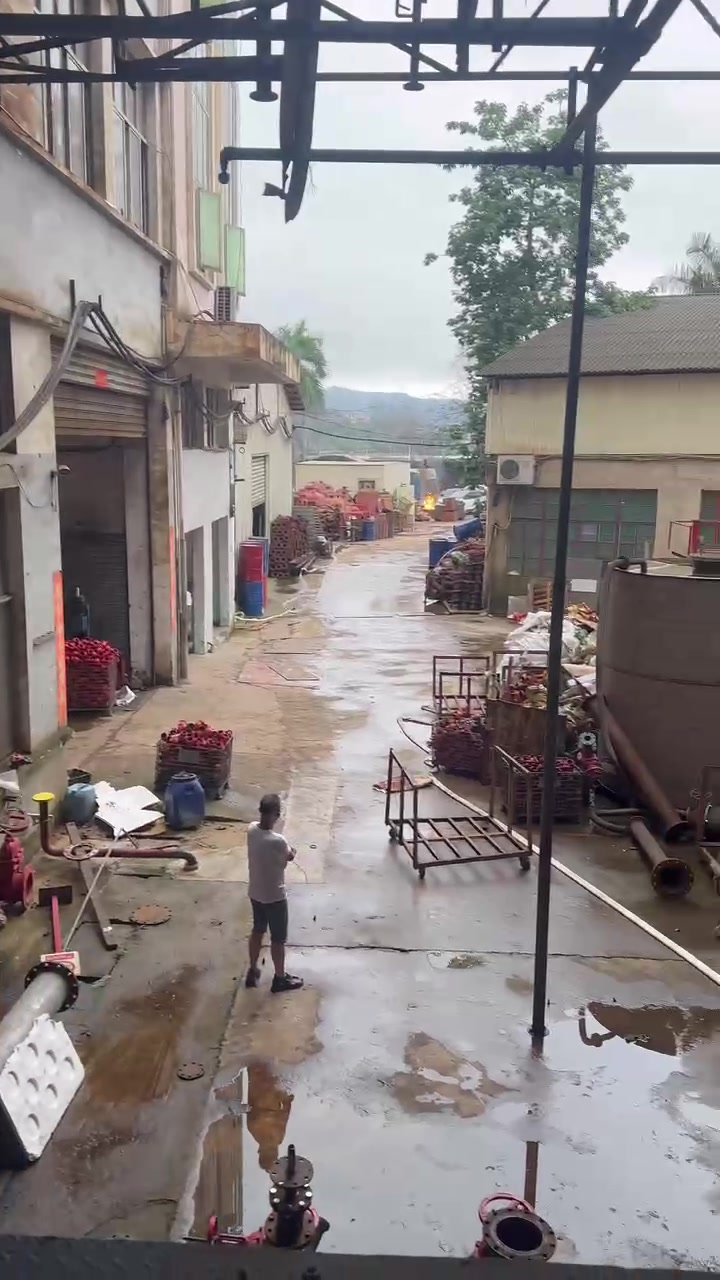fire: (422, 495, 435, 509)
